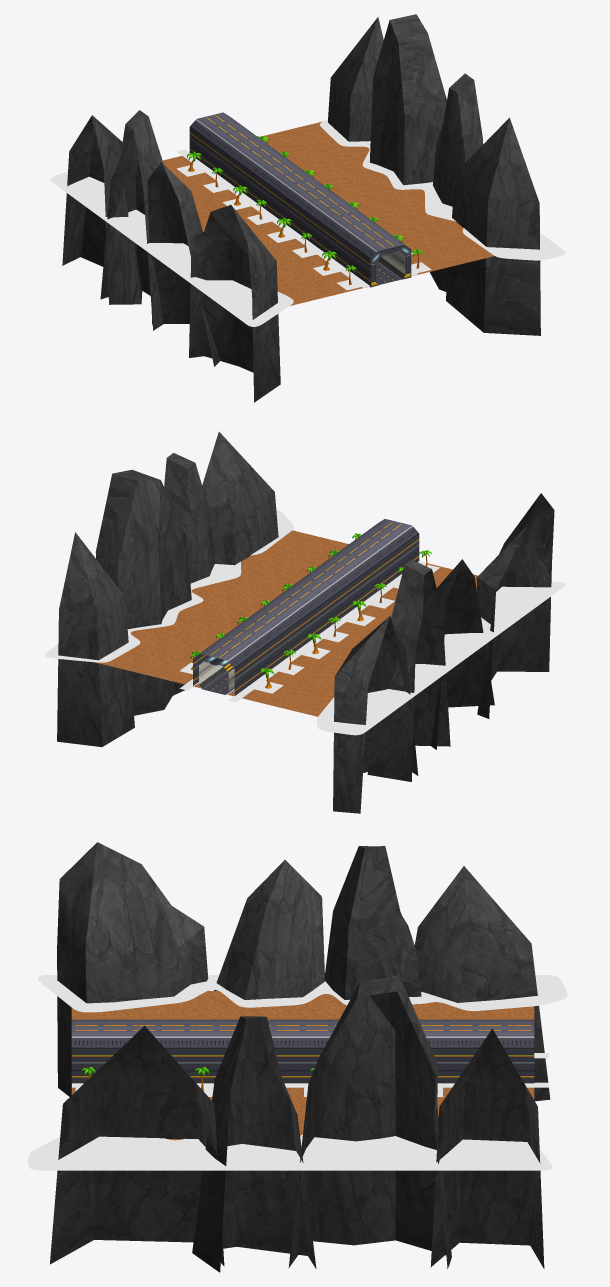
Rendered from Mexico_08.fbx.
3 views of the same model, one above another, from view 1: azimuth 30°, elevation 25°; view 2: azimuth 150°, elevation 25°; view 3: azimuth 270°, elevation 25° (orthographic). The views are drawn at different scales.
Parts seen in each view (by area): view 1: Mexico_08; view 2: Mexico_08; view 3: Mexico_08.
Part boxes in pixels (<box>): Mexico_08: <box>50,14,565,402</box>; Mexico_08: <box>44,432,565,813</box>; Mexico_08: <box>28,842,567,1272</box>.
Size of the model in its own units: 22617 by 13384 by 25170.
Materials: 8 (8 with a texture image).
